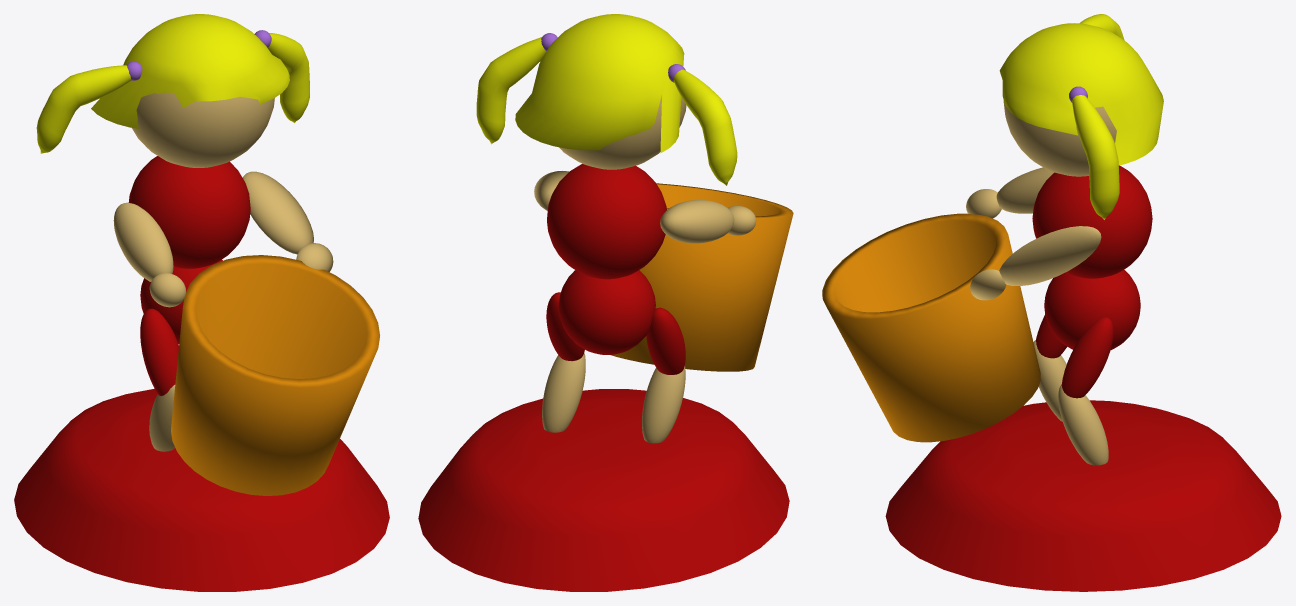
File: BB_Tower_Red_Girl.fbx
The picture shows the model from 3 angles, left to right: view 1: azimuth 30°, elevation 25°; view 2: azimuth 150°, elevation 25°; view 3: azimuth 270°, elevation 25°; orthographic projection. The views are drawn at different scales.
Parts seen in each view (by area): view 1: Circle_002, Circle, Sphere_009; view 2: Circle, Sphere_009, Circle_002; view 3: Circle, Circle_002, Sphere_009.
Part boxes in pixels (x1,y1,x2,y2): Circle_002: [113, 171, 379, 495]; Circle: [14, 388, 389, 591]; Sphere_009: [36, 14, 309, 451]; Circle: [418, 389, 789, 591]; Sphere_009: [476, 14, 737, 443]; Circle_002: [534, 171, 793, 371]; Circle: [885, 400, 1281, 591]; Circle_002: [822, 167, 1101, 442]; Sphere_009: [999, 14, 1163, 465].
Size of the model in its own units: 1.22 by 1.81 by 1.56.
